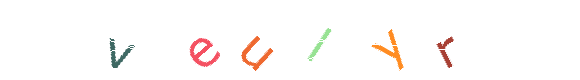E: (166, 0, 246, 80)
L: (264, 0, 344, 80)
R: (405, 0, 485, 80)
U: (250, 0, 330, 80)
V: (78, 0, 158, 80)
Y: (282, 0, 362, 80)
